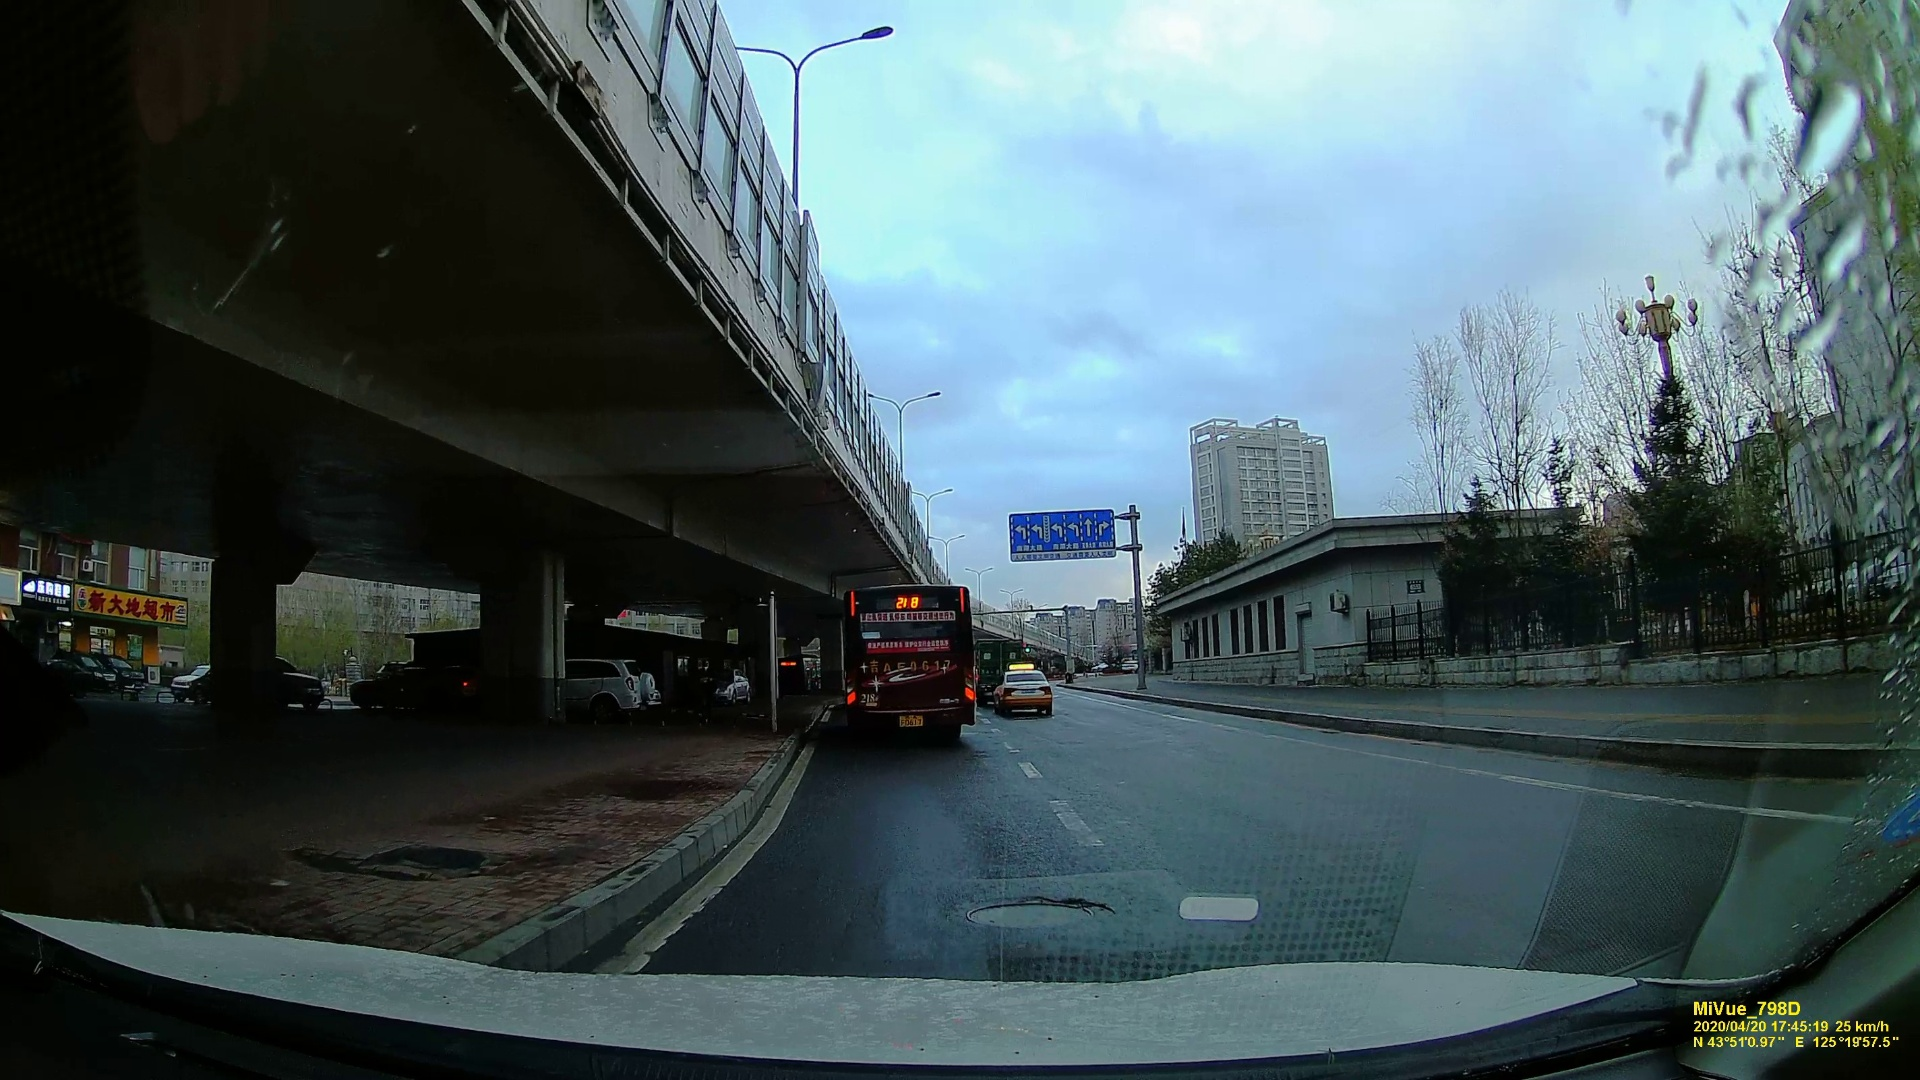bus: (843, 585, 971, 742)
traffic_sign: (1009, 514, 1113, 555)
vehicle: (993, 665, 1052, 715)
